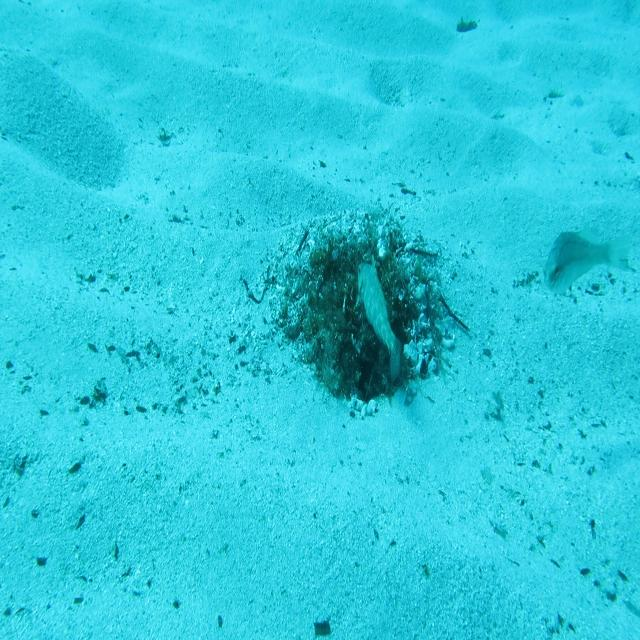FAN: (356, 252, 404, 386)
core_nest: (332, 251, 370, 279)
female: (542, 223, 635, 298)
nest: (263, 192, 460, 430)
vegetation: (312, 616, 334, 640), (453, 18, 479, 32)
